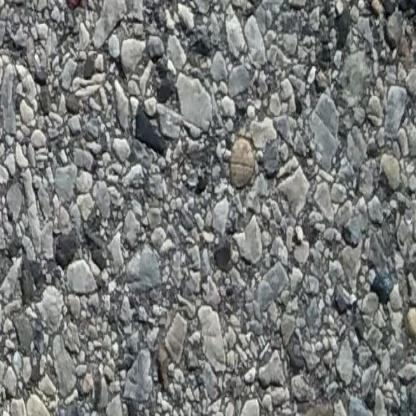Cracks: (354, 0, 416, 29)
